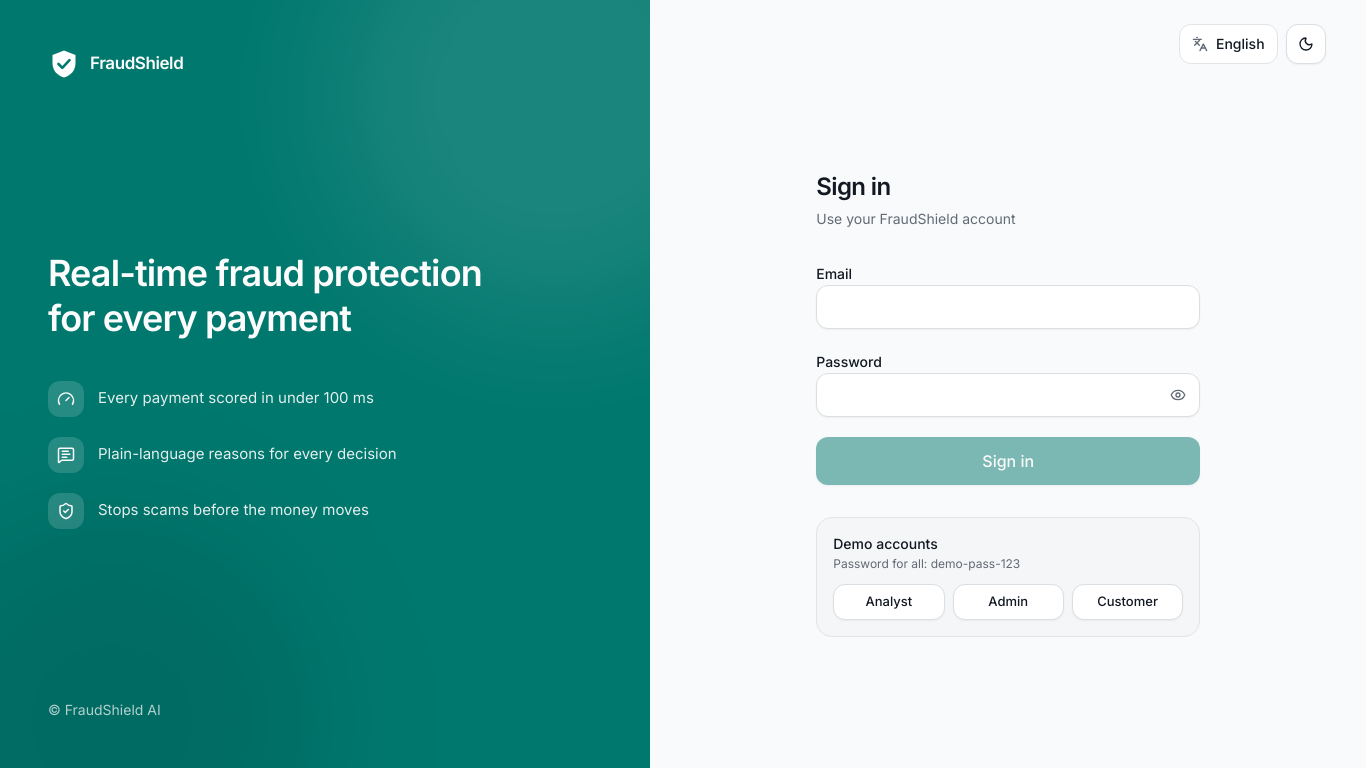
Test: login and role-based redirect (spec 06 §1) › shows the server's error in plain words on a wrong password
Type "analyst@demo.fraudshield" into the field labelled "Email" at (1008, 307), box x1=816 y1=285 x2=1200 y2=329
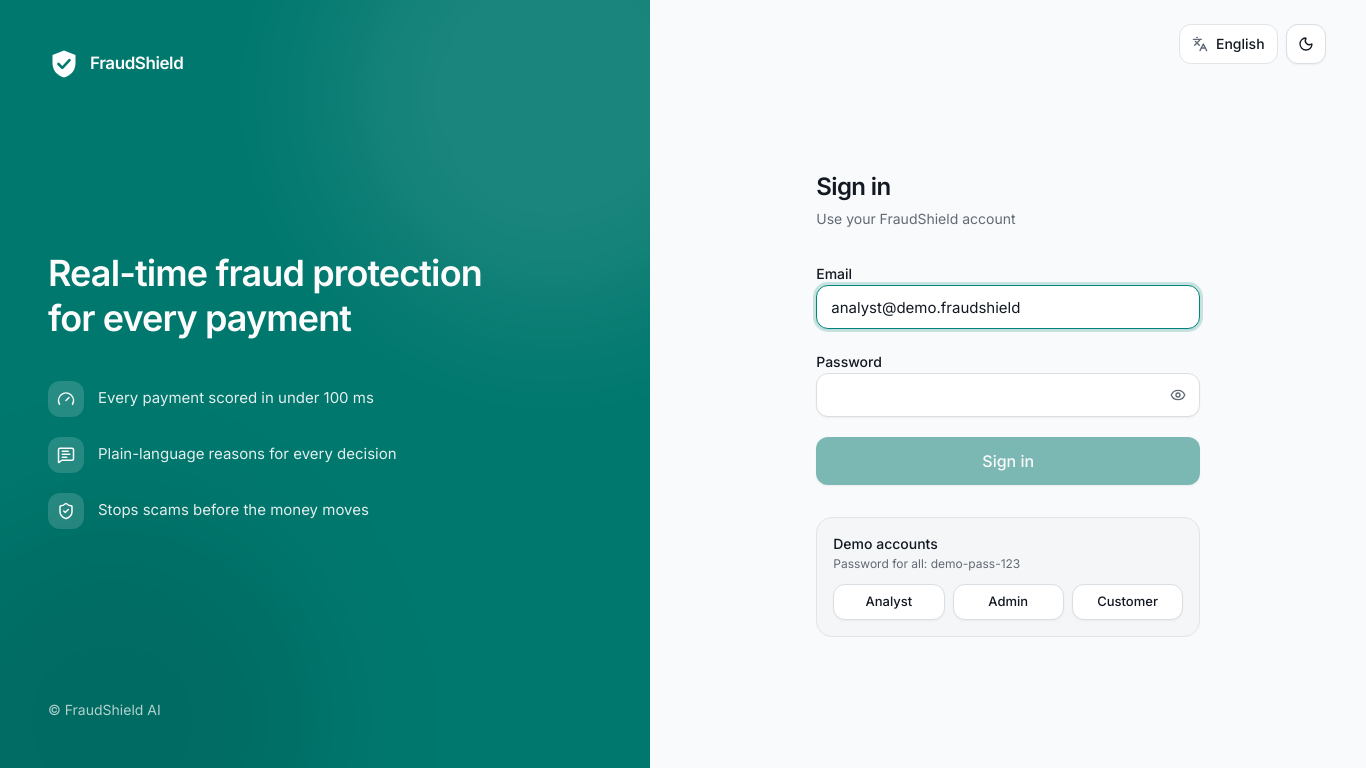
Type "not-the-password" into the password field labelled "Password" at (1008, 395), box x1=816 y1=373 x2=1200 y2=417
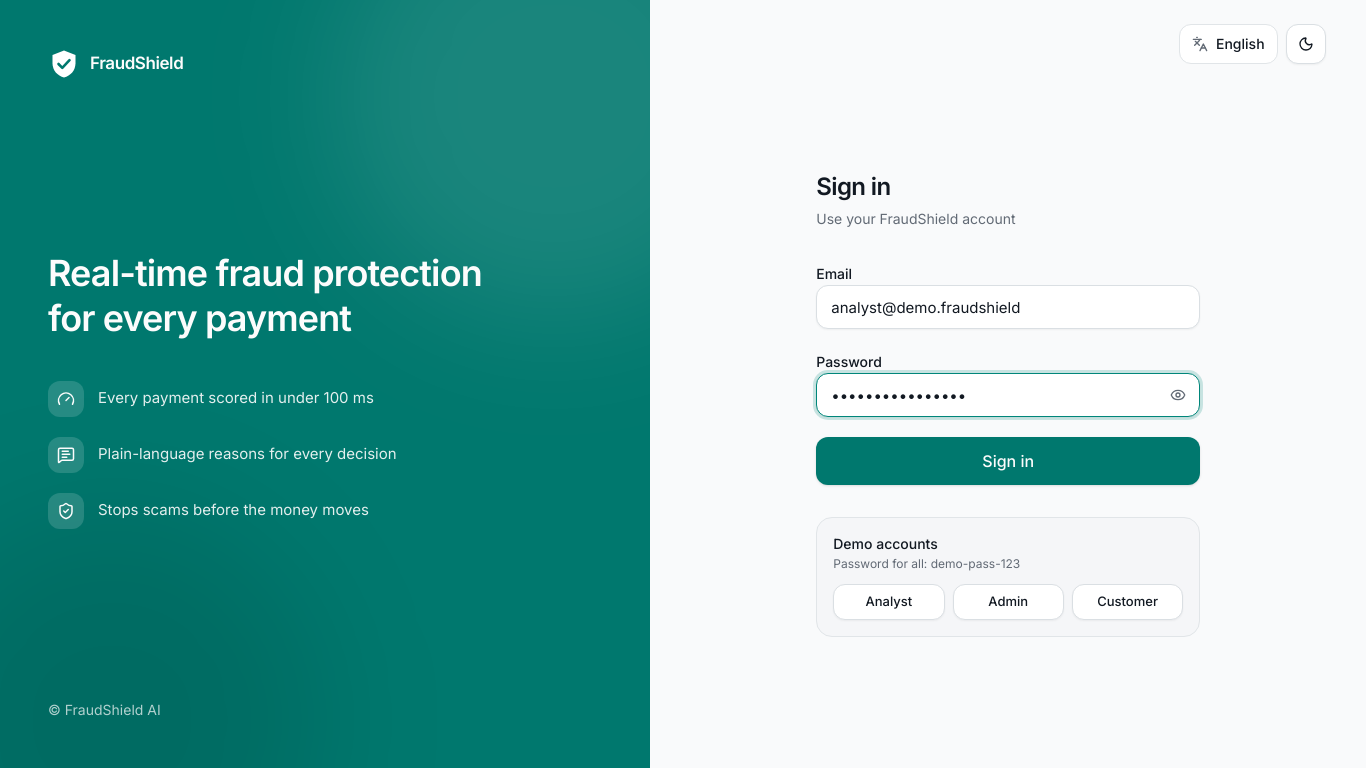
Click the button "Sign in" at (1008, 461), box x1=816 y1=437 x2=1200 y2=485
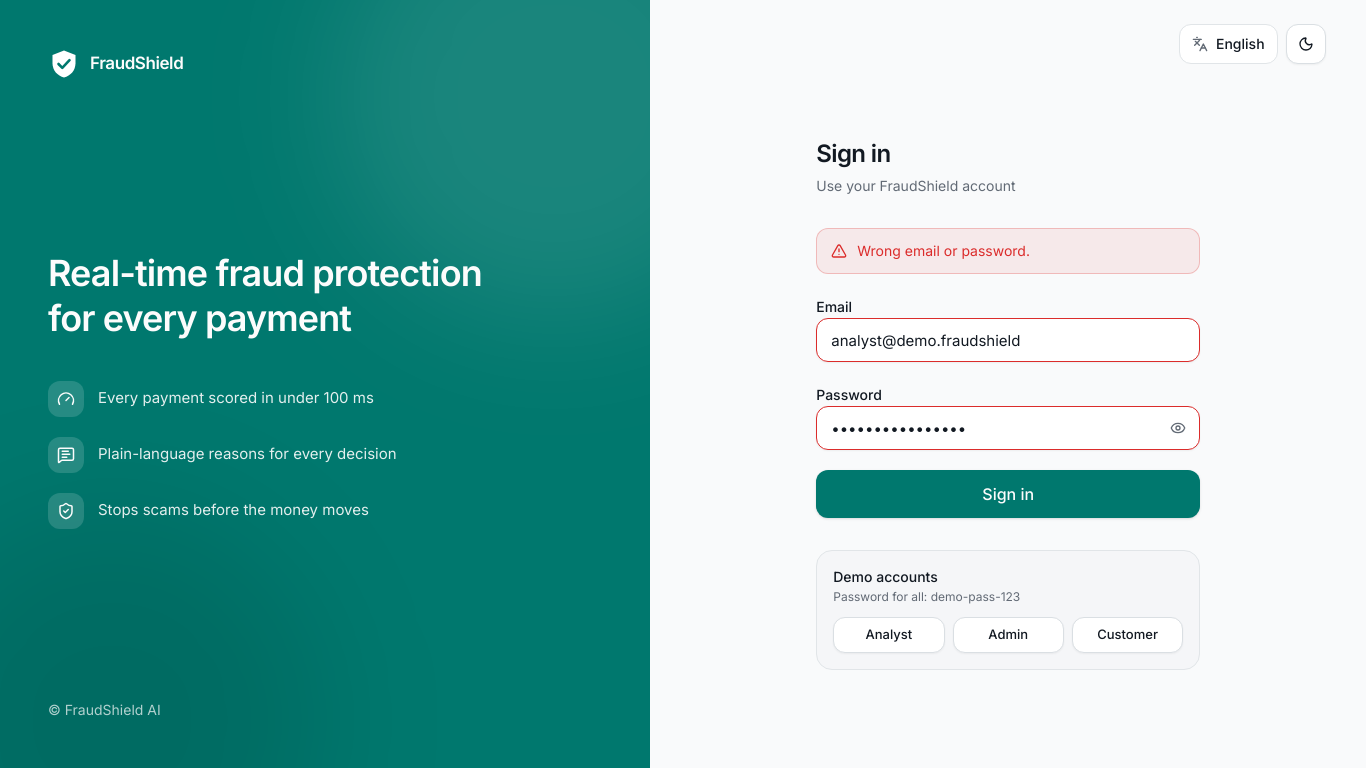
Expected: the message reads "Wrong email or password.", x1=857 y1=242 x2=1030 y2=259
